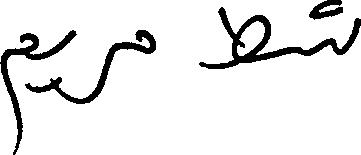X: (202, 2, 269, 73), (0, 28, 37, 154), (297, 0, 360, 60), (88, 39, 114, 107), (135, 25, 154, 58), (67, 25, 73, 107)
